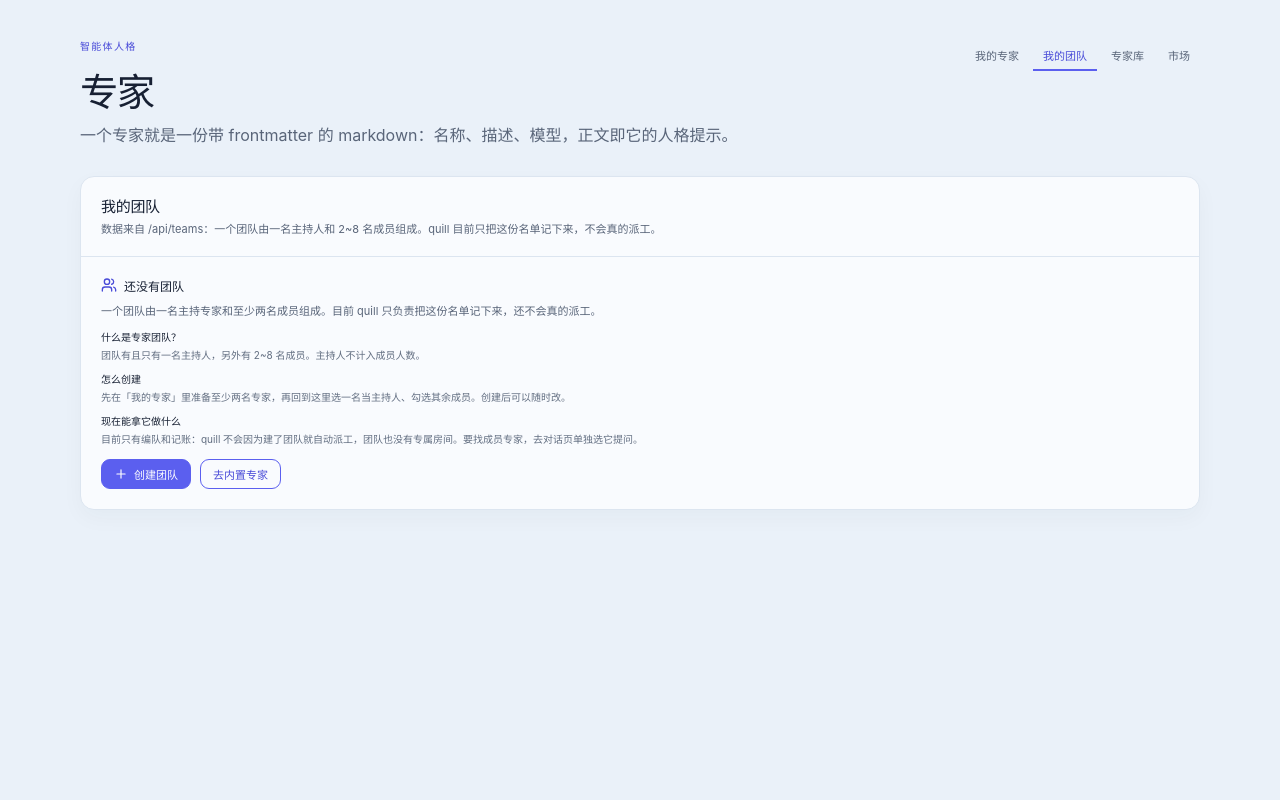
it: 成员不够两名时挡住提交
Click the button with test id "teams-new": (146, 474) x1=101 y1=459 x2=191 y2=489
(page scrolled)
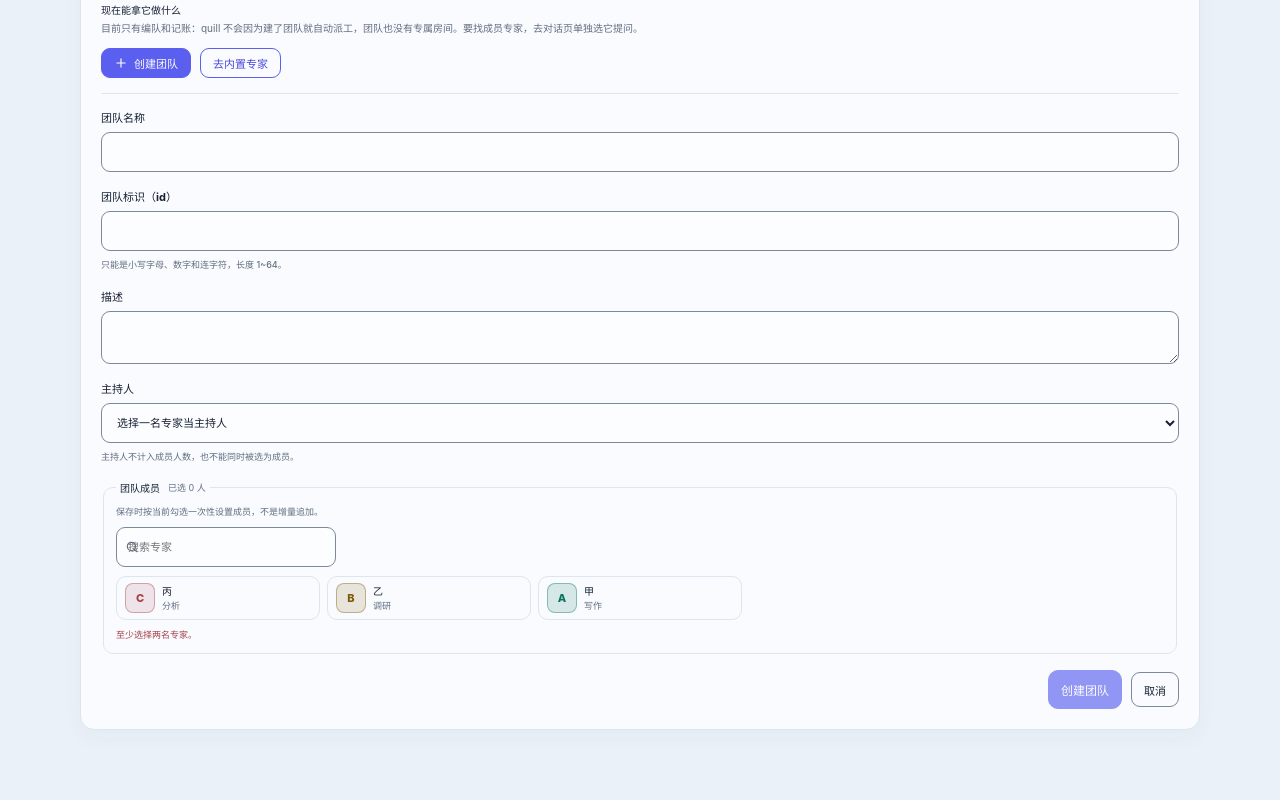
Result: the 2nd button "创建团队" is disabled at x1=1048 y1=670 x2=1122 y2=709
In the search field labelled "搜索专家": (226, 547) x1=116 y1=527 x2=336 y2=567, type "甲"
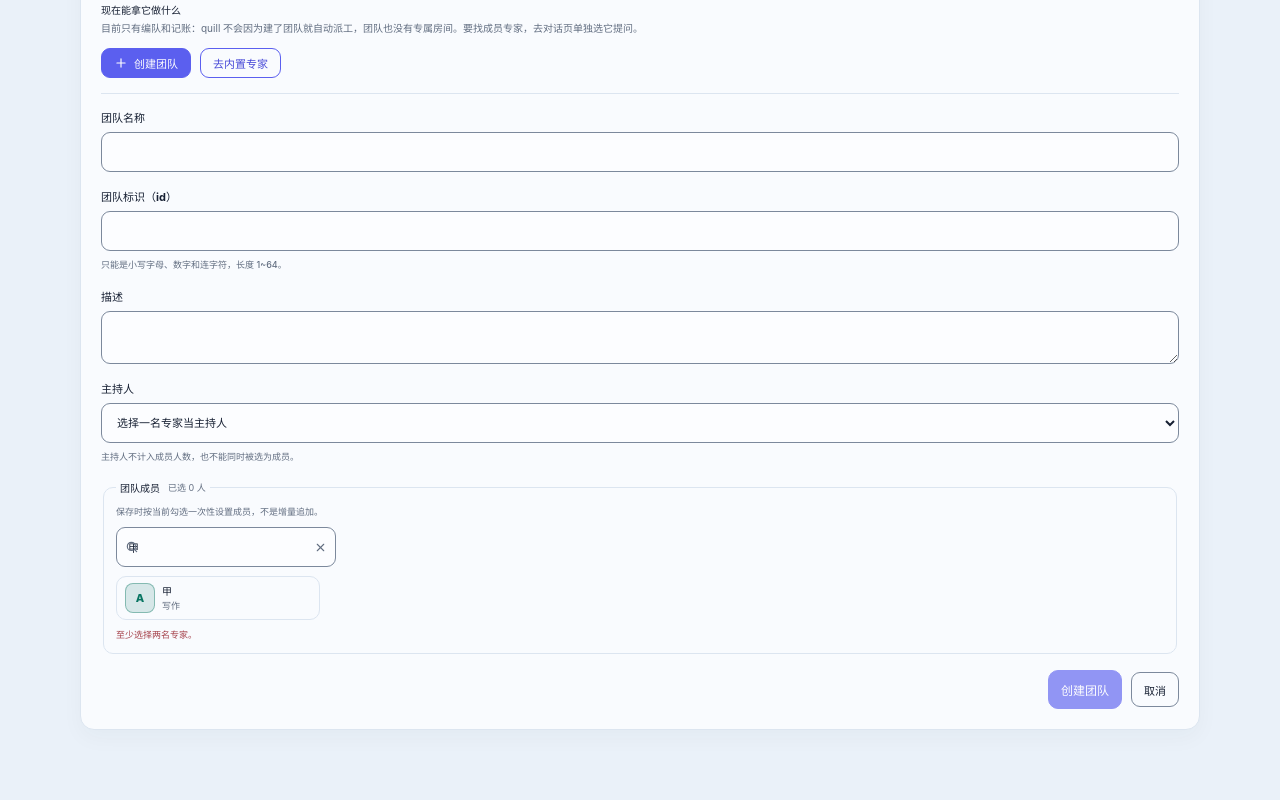
Click the button "A 甲 写作": (218, 598) x1=116 y1=576 x2=320 y2=620
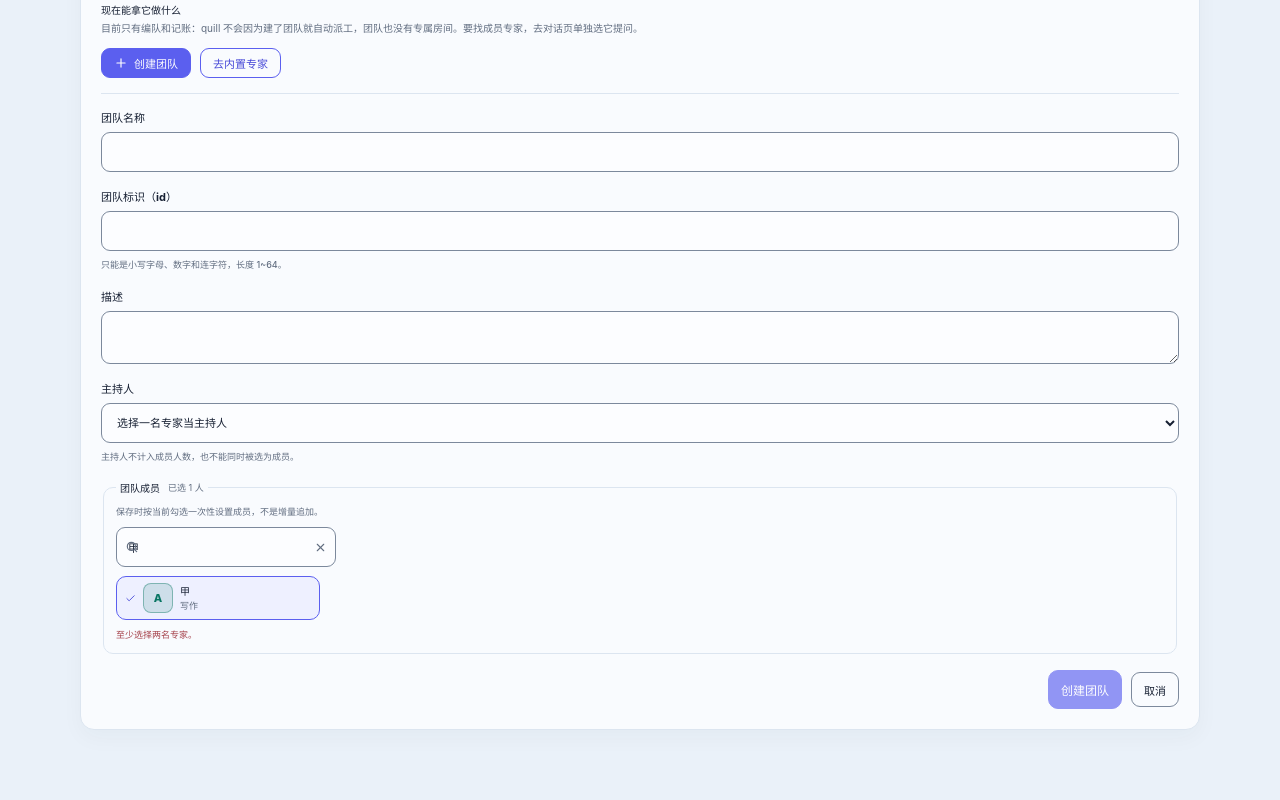
Result: the 2nd button "创建团队" is disabled at x1=1048 y1=670 x2=1122 y2=709
Result: the text "已选 1 人" is shown at x1=168 y1=481 x2=204 y2=494
Replace the text in the search field named "搜索专家" with "丙": (226, 547) x1=116 y1=527 x2=336 y2=567
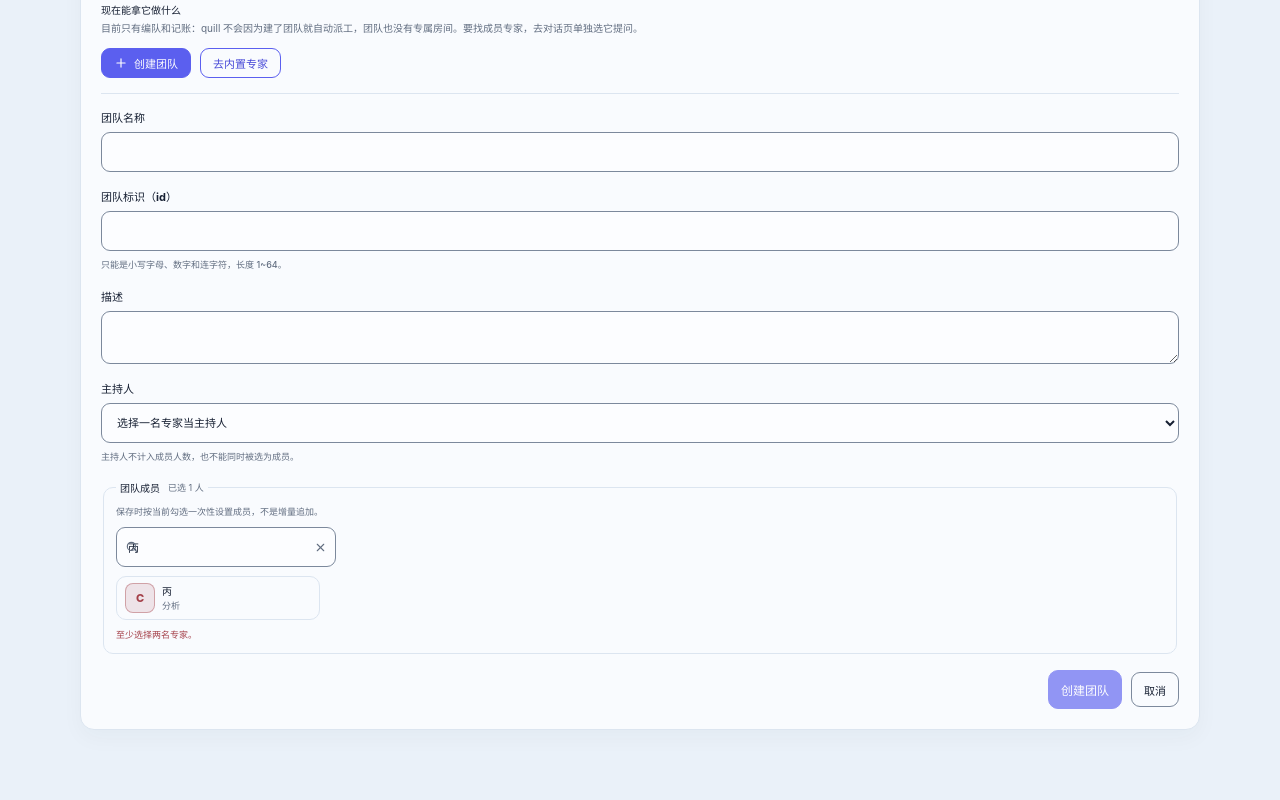
Click the button "C 丙 分析": (218, 598) x1=116 y1=576 x2=320 y2=620
(page scrolled)
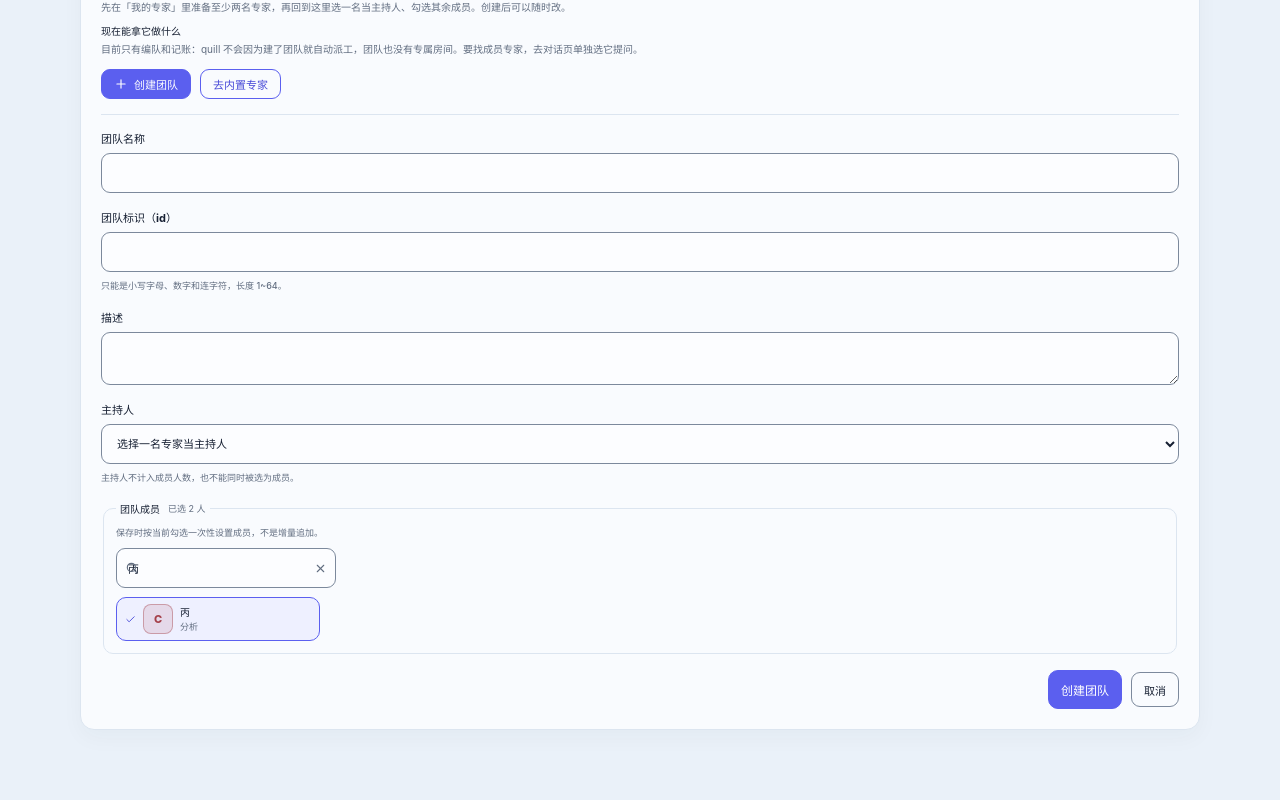
Result: the text "已选 2 人" is shown at x1=168 y1=502 x2=206 y2=515
Result: the 2nd button "创建团队" is enabled at x1=1048 y1=670 x2=1122 y2=709
